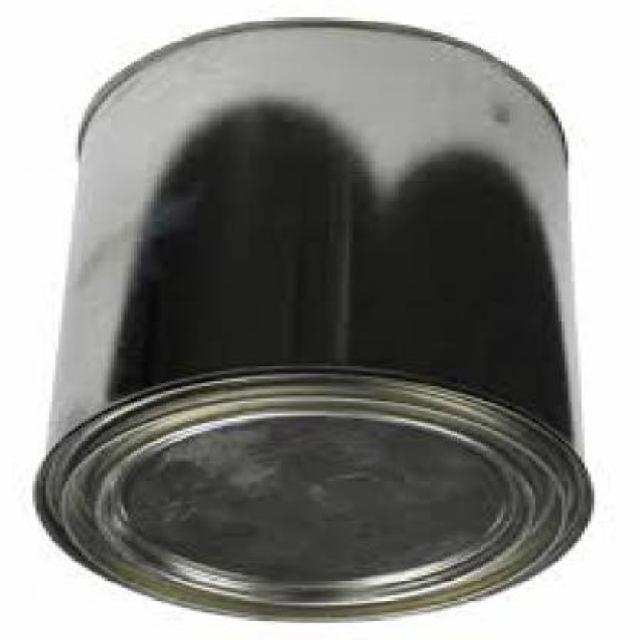METAL: (32, 19, 602, 626)
